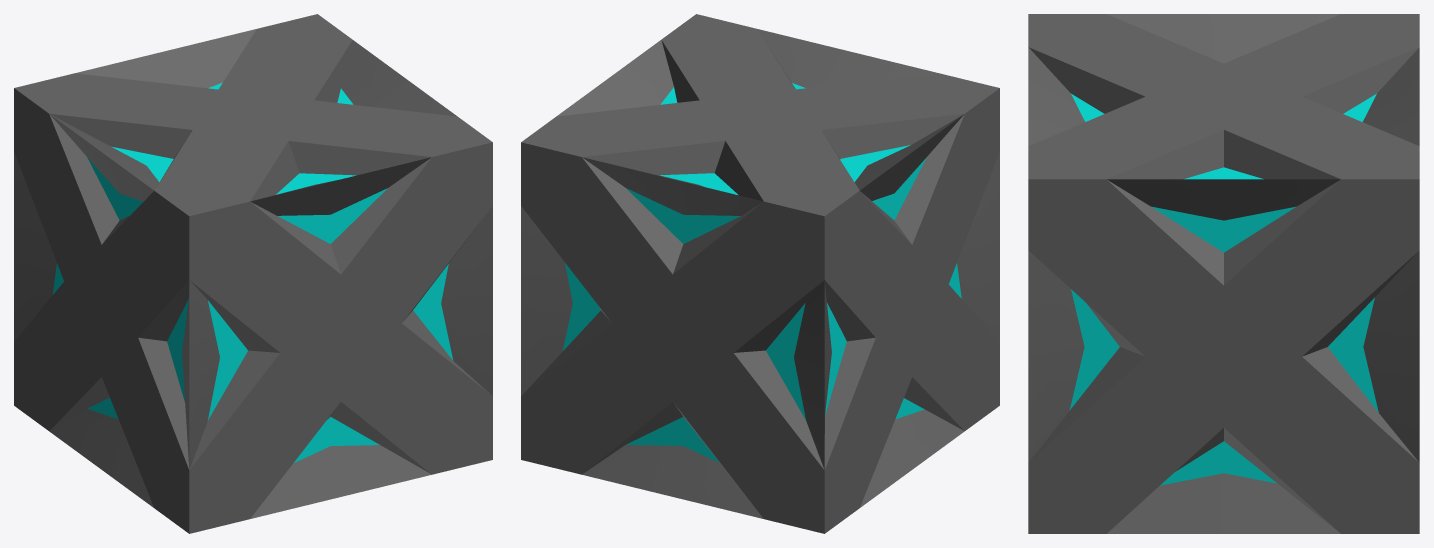
The model's file is Crate.fbx.
3 views of the same model, side by side, from view 1: azimuth 30°, elevation 25°; view 2: azimuth 150°, elevation 25°; view 3: azimuth 270°, elevation 25° (orthographic). The views are drawn at different scales.
Visible parts, largest first — view 1: pCube1; view 2: pCube1; view 3: pCube1.
Boxes of the visible parts, box(x1,y1,x2,y2) form: pCube1: box(14, 14, 492, 533); pCube1: box(521, 14, 999, 533); pCube1: box(1028, 14, 1419, 533).
Bounding box in the file's own units: 1.04 × 1.04 × 1.04.
